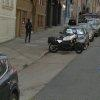Motorcycle: (46, 33, 91, 57)
